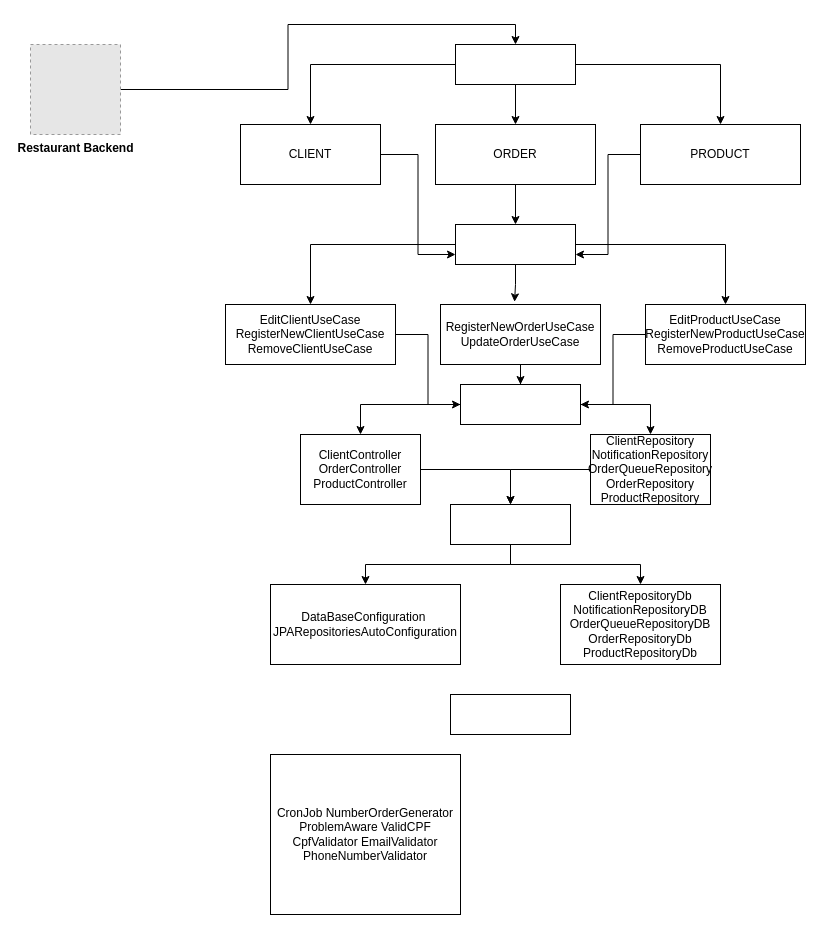
Image size: 823x932. Some labels were removed from this diagram. Grey dashed boxes stand in for pictures. Each missing label, with the centre of its shape:
Adapters Layer: the point at 520,404
Entities Layer: the point at 515,64
Infrastructure Layer: the point at 510,524
Use Cases Layer: the point at 515,244
Utility Layer: the point at 510,714
